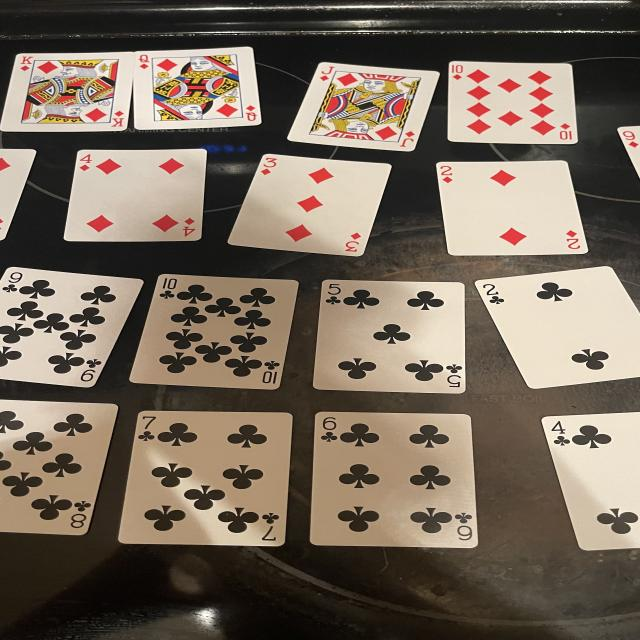10 of clubs: (129, 274, 298, 390)
10 of diamonds: (447, 61, 578, 144)
2 of clubs: (476, 266, 640, 389)
2 of diamonds: (436, 161, 587, 255)
3 of diamonds: (229, 154, 391, 256)
4 of clubs: (542, 412, 640, 550)
4 of diamonds: (64, 149, 207, 241)
5 of clubs: (313, 280, 464, 394)
6 of clubs: (309, 411, 478, 548)
7 of clubs: (118, 411, 293, 546)
8 of clubs: (0, 400, 118, 535)
9 of clubs: (0, 268, 142, 388)
9 of diamonds: (618, 126, 640, 175)
Jack of diamonds: (287, 62, 440, 151)
King of diamonds: (0, 52, 133, 131)
Queen of diamonds: (133, 48, 260, 129)
